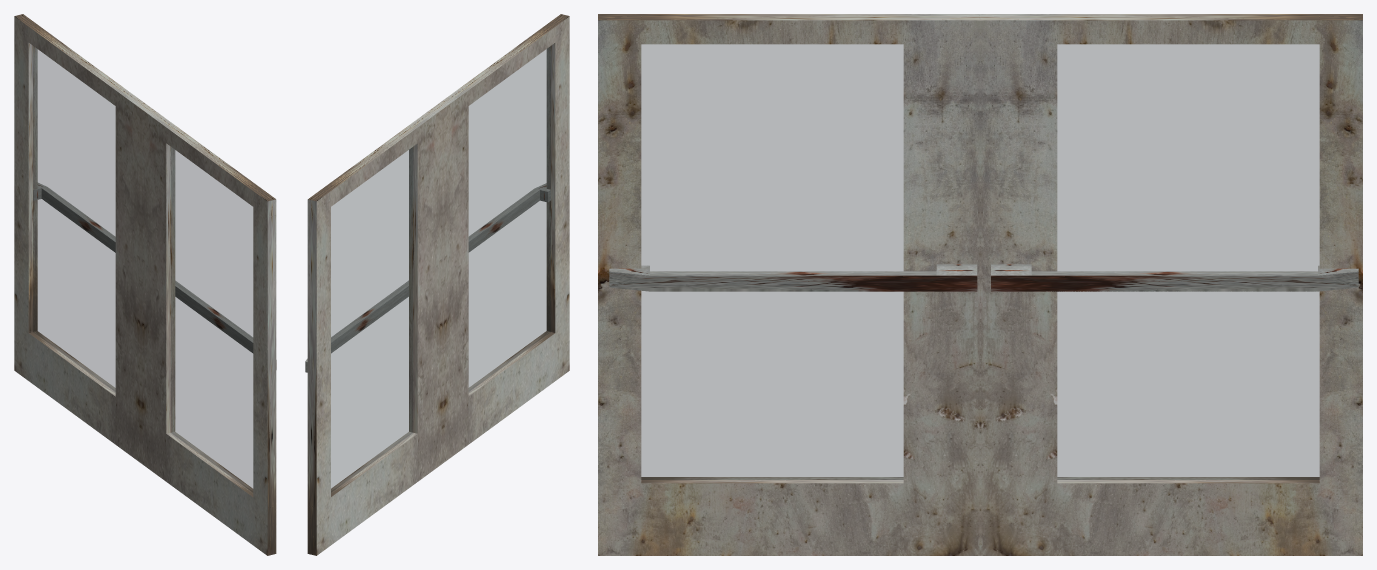
The model's file is door_edit (1).fbx.
The picture shows the model from 3 angles, left to right: view 1: azimuth 30°, elevation 25°; view 2: azimuth 150°, elevation 25°; view 3: azimuth 270°, elevation 25°; orthographic projection. The views are drawn at different scales.
Visible parts, largest first — view 1: Cube, Plane, Cube.001; view 2: Cube, Plane, Cube.001; view 3: Plane, Cube, Cube.001.
Boxes of the visible parts, bbox=[...] form: Cube: bbox=[14, 14, 276, 555]; Plane: bbox=[33, 46, 252, 492]; Cube.001: bbox=[33, 182, 276, 369]; Cube: bbox=[307, 14, 569, 555]; Plane: bbox=[331, 46, 550, 492]; Cube.001: bbox=[305, 183, 550, 372]; Plane: bbox=[641, 44, 1319, 479]; Cube: bbox=[598, 14, 1362, 555]; Cube.001: bbox=[609, 264, 1358, 291].
Bounding box in the file's own units: 22.66 × 420 × 544.
